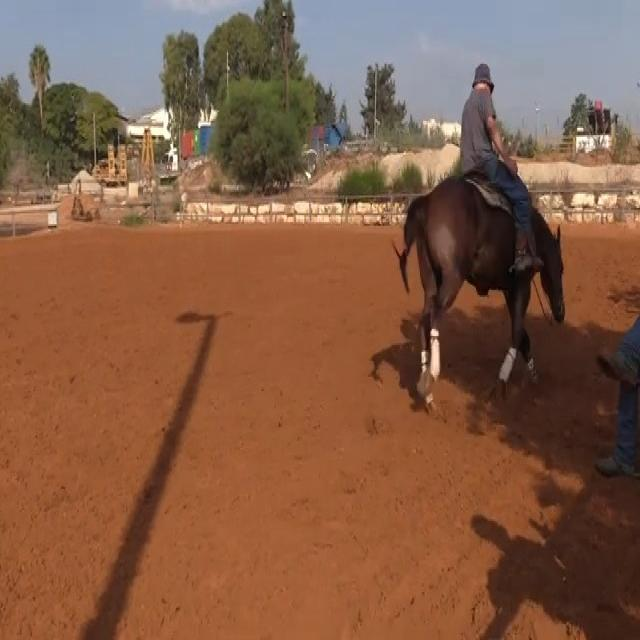horse: (392, 169, 567, 414)
